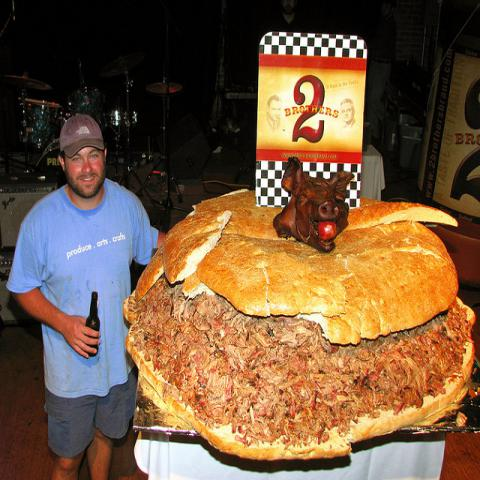bus: (0, 66, 72, 326)
